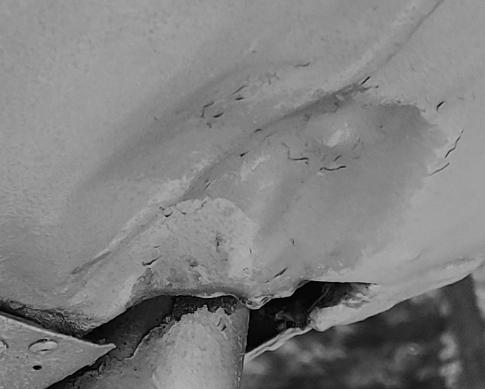dent: (1, 0, 485, 389)
